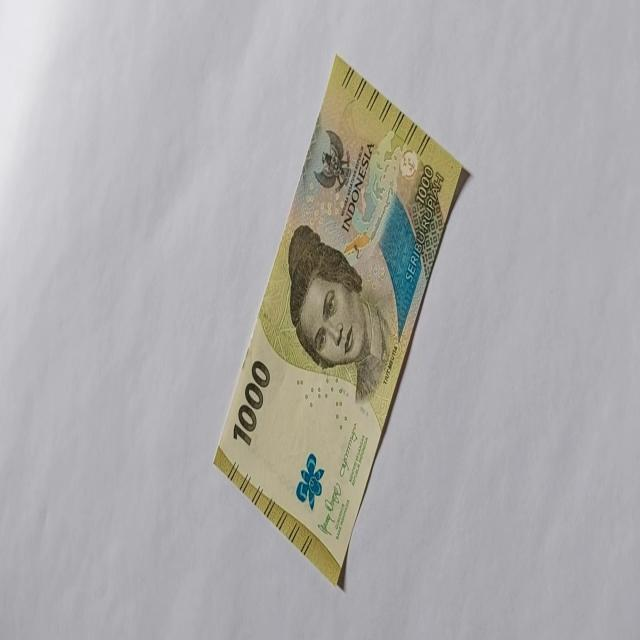seribu rupiah kertas: (212, 52, 472, 588)
